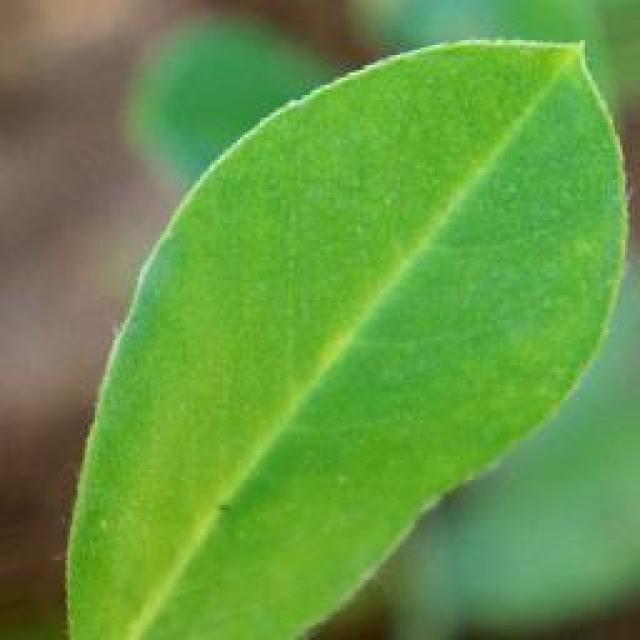Yellow_and_black_sigatoka: (68, 33, 630, 640)
